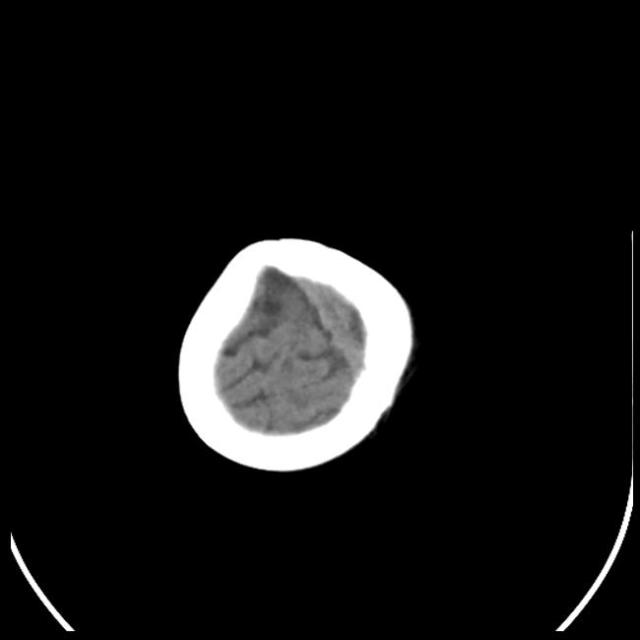lesion: (175, 233, 416, 474)
